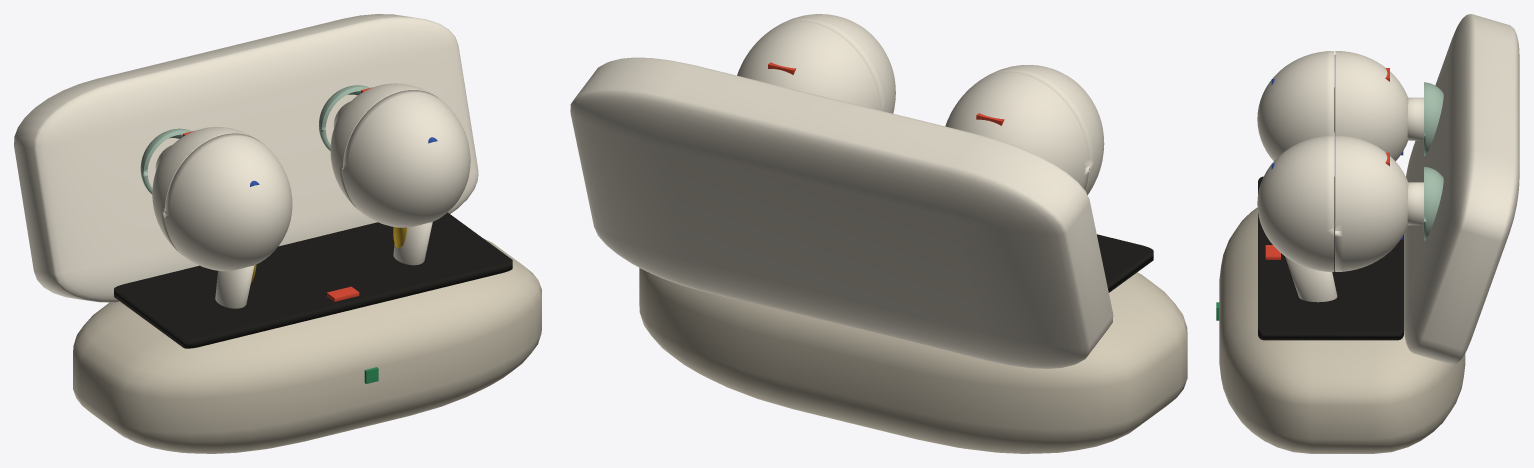
The model's file is case.glb.
3 views of the same model, side by side, from view 1: azimuth 30°, elevation 25°; view 2: azimuth 150°, elevation 25°; view 3: azimuth 270°, elevation 25° (orthographic). The views are drawn at different scales.
Parts seen in each view (by area): view 1: Case lid, Case base, Case well, Back shell.002, Back shell.003, Front shell.003, Front shell.002, Stem.002, Stem.003, Ear tip.002, Ear tip.003; view 2: Case lid, Case base, Front shell.002, Front shell.003, Back shell.002, Back shell.003, Case well; view 3: Case lid, Case base, Case well, Back shell.003, Front shell.003, Back shell.002, Front shell.002, Stem.003, Ear tip.002, Ear tip.003, Nozzle.002, Nozzle.003.
Boxes of the visible parts, x1,y1,x2,y2 form: Case lid: [14, 14, 478, 302]; Case base: [73, 239, 541, 453]; Case well: [114, 212, 512, 348]; Back shell.002: [165, 133, 292, 271]; Back shell.003: [343, 90, 470, 227]; Front shell.003: [330, 83, 434, 209]; Front shell.002: [152, 127, 255, 254]; Stem.002: [215, 265, 254, 308]; Stem.003: [393, 222, 432, 265]; Ear tip.002: [140, 128, 191, 194]; Ear tip.003: [319, 85, 370, 150]; Case lid: [570, 57, 1113, 368]; Case base: [639, 268, 1187, 453]; Front shell.002: [945, 72, 1089, 189]; Front shell.003: [737, 21, 880, 110]; Back shell.002: [983, 65, 1104, 194]; Back shell.003: [774, 14, 895, 113]; Case well: [1097, 234, 1153, 292]; Case lid: [1404, 14, 1519, 364]; Case base: [1219, 207, 1465, 453]; Case well: [1258, 176, 1403, 340]; Back shell.003: [1257, 135, 1334, 271]; Front shell.003: [1335, 135, 1408, 271]; Back shell.002: [1257, 51, 1334, 160]; Front shell.002: [1335, 51, 1408, 161]; Stem.003: [1285, 256, 1337, 302]; Ear tip.002: [1423, 82, 1443, 155]; Ear tip.003: [1423, 167, 1443, 240]; Nozzle.002: [1407, 97, 1423, 140]; Nozzle.003: [1407, 182, 1423, 225].
Bounding box in the file's own units: 6.2 × 4.26 × 3.94.
